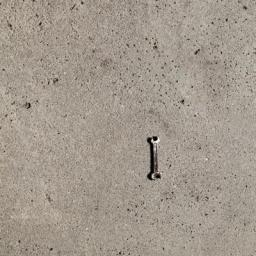FOD: (146, 134, 168, 185)
